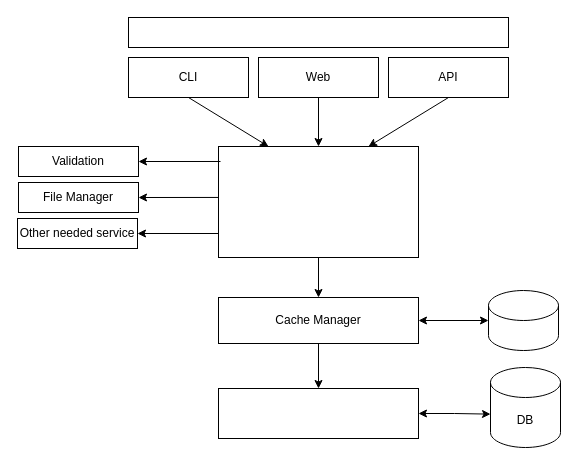
Some shapes in this 578 by 465 pixel diagram are drawn without their labels. The shapes that lost their labels are listed below. From the top down, each one's centre as x and y in pixels, then its label:
point (318, 32): Controllers
point (318, 202): Service
point (523, 320): Cache
point (318, 413): Repository
